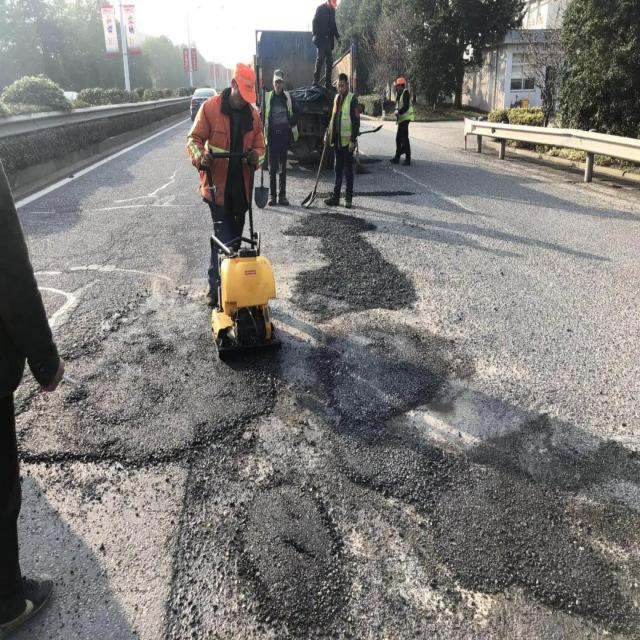Pothole: (236, 482, 358, 626), (378, 380, 532, 468), (292, 212, 424, 309)
